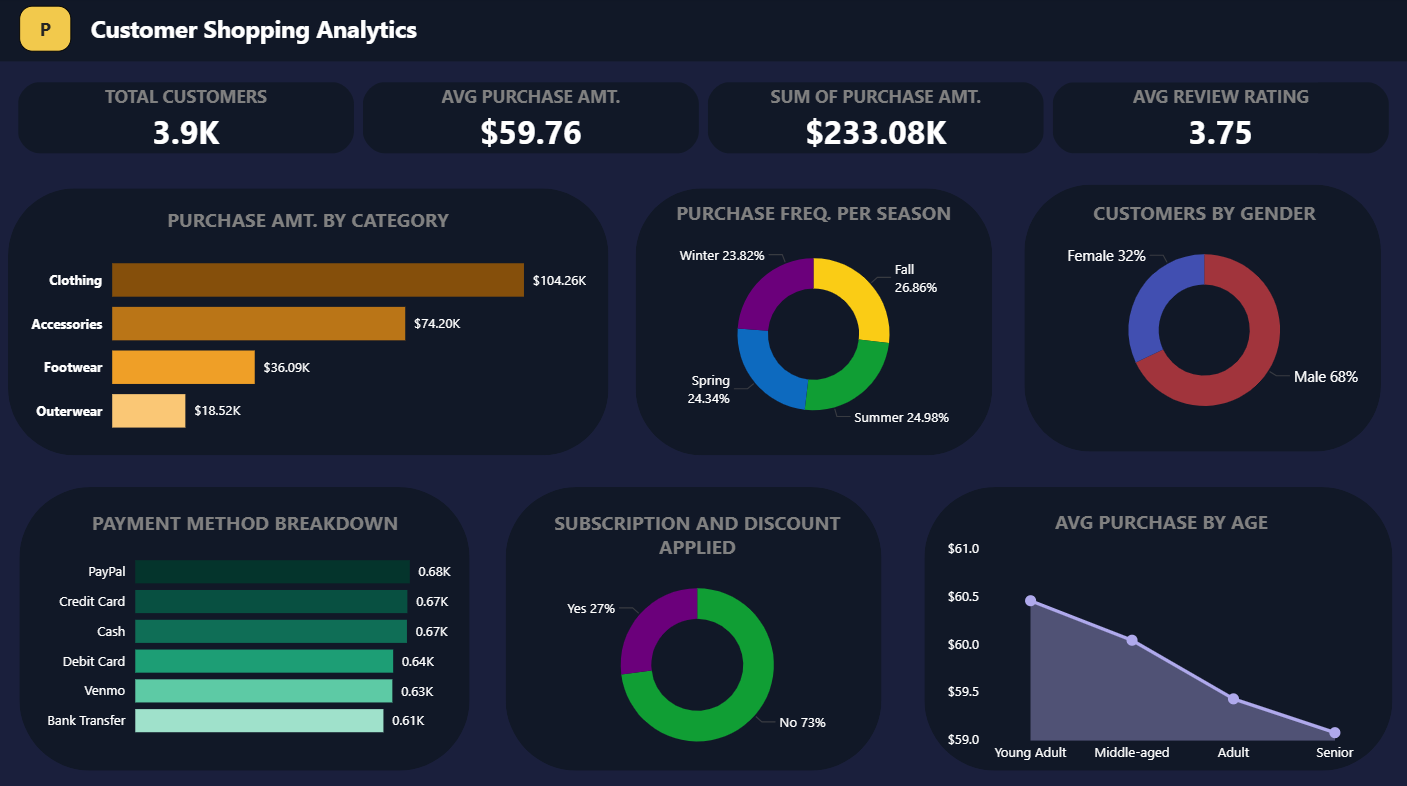

What the dashboard file says about the page in this screenshot:
{"tool":"powerbi","page":{"name":"Page 1","canvas":[1280,720],"ordinal":0},"visuals":[{"type":"shape","box":[931.2,170,323.8,242.5],"z":0},{"type":"shape","box":[0,0,1280,58.8],"z":1000},{"type":"textbox","box":[18.8,7.5,47.5,41.2],"z":2000},{"type":"textbox","box":[60,8.8,343.8,42.5],"z":3000},{"type":"cardVisual","fields":{"Data":["public customer.Total Customers","public customer.AVG PURCHASE AMT.","Sum(public customer.purchase_amount)","public customer.AVG REVIEW RATING"]},"box":[0,58.8,1280,101.2],"z":4000},{"type":"shape","box":[8.8,173.8,545,242.5],"z":5000},{"type":"shape","box":[578.8,173.8,323.8,242.5],"z":6000},{"type":"donutChart","title":"CUSTOMERS BY GENDER","fields":{"Category":["public customer.gender"],"Y":["Count(public customer.customer_id)"]},"box":[938.8,183.8,311.2,215],"z":7000},{"type":"donutChart","title":"PURCHASE FREQ. PER SEASON","fields":{"Y":["Sum(public customer.purchase_frequency_days)"],"Category":["public customer.season"]},"box":[605,183.8,271.2,222.5],"z":8000},{"type":"clusteredBarChart","title":"PURCHASE AMT. BY CATEGORY","fields":{"Y":["Sum(public customer.purchase_amount)"],"Category":["public customer.category"]},"box":[23.8,190,515,222.5],"z":9000},{"type":"shape","box":[840,445,425,257.5],"z":10000},{"type":"shape","box":[18.8,445,408.8,257.5],"z":11000},{"type":"shape","box":[460,445,341.2,257.5],"z":12000},{"type":"clusteredBarChart","title":"PAYMENT METHOD BREAKDOWN","fields":{"Category":["public customer.payment_method"],"Y":["public customer.Total Customers"]},"box":[31.2,465,385,218.8],"z":13000},{"type":"donutChart","title":"SUBSCRIPTION AND DISCOUNT APPLIED","fields":{"Y":["Count(public customer.customer_id)"],"Category":["public customer.subscription_status"]},"box":[468.8,465,332.5,237.5],"z":14000},{"type":"areaChart","title":"AVG PURCHASE BY AGE","fields":{"Y":["public customer.AVG PURCHASE AMT."],"Category":["public customer.age_group"]},"box":[856.2,463.8,398.8,240],"z":15000}]}

Visuals, with their boxes in screenshot pixels (x1, y1, x2, y2), scaled from the page's 1280x720 canvas onto the 1407x786 screenshot:
shape: BBox(1024, 186, 1380, 450)
shape: BBox(0, 0, 1406, 64)
textbox: BBox(21, 8, 73, 53)
textbox: BBox(66, 10, 444, 56)
cardVisual - public customer.Total Customers x public customer.AVG PURCHASE AMT.: BBox(0, 64, 1406, 175)
shape: BBox(10, 190, 609, 454)
shape: BBox(636, 190, 992, 454)
"CUSTOMERS BY GENDER" donutChart: BBox(1032, 201, 1374, 435)
"PURCHASE FREQ. PER SEASON" donutChart: BBox(665, 201, 963, 444)
"PURCHASE AMT. BY CATEGORY" clusteredBarChart: BBox(26, 207, 592, 450)
shape: BBox(923, 486, 1391, 767)
shape: BBox(21, 486, 470, 767)
shape: BBox(506, 486, 881, 767)
"PAYMENT METHOD BREAKDOWN" clusteredBarChart: BBox(34, 508, 457, 746)
"SUBSCRIPTION AND DISCOUNT APPLIED" donutChart: BBox(515, 508, 881, 767)
"AVG PURCHASE BY AGE" areaChart: BBox(941, 506, 1380, 768)
